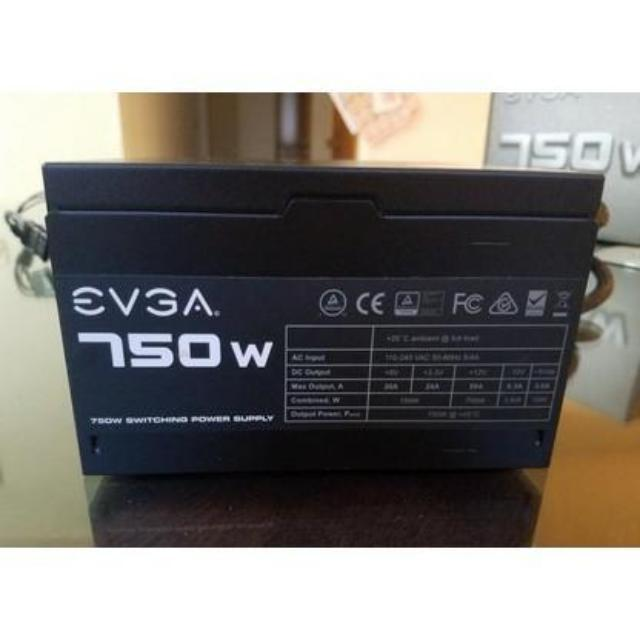PSU: (31, 156, 616, 490)
